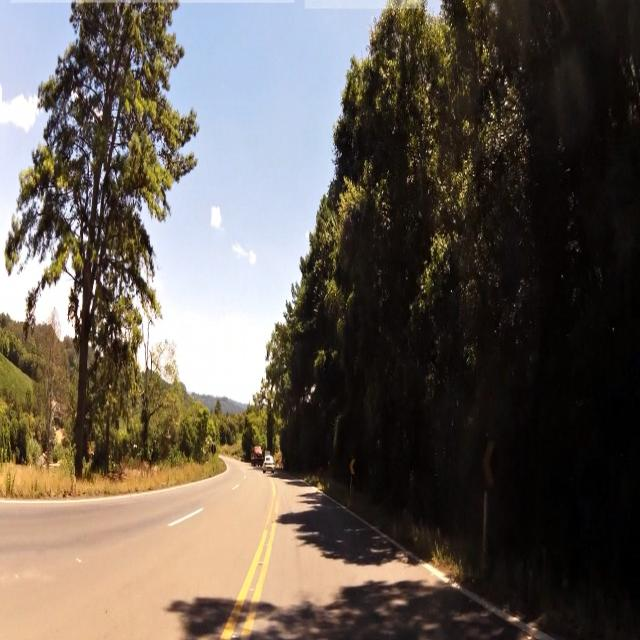Del: (482, 436, 499, 490), (348, 456, 357, 478)
